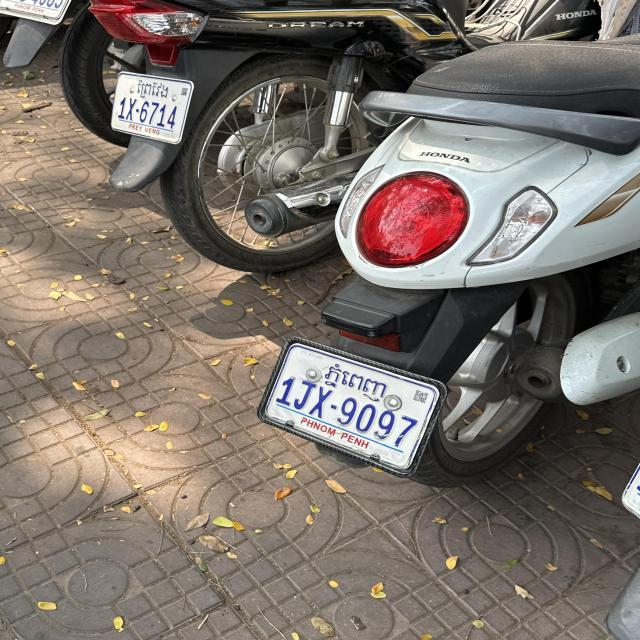Prey_Veng: (137, 79, 170, 99)
